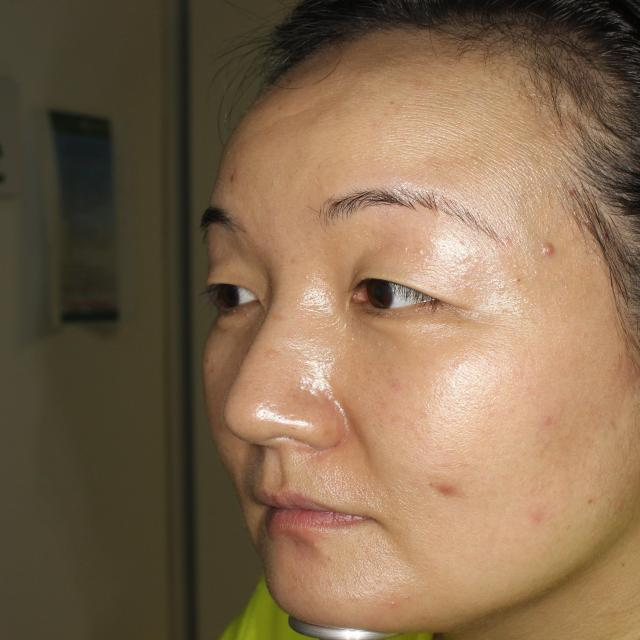comedone: (426, 471, 457, 512), (536, 235, 568, 269), (520, 506, 556, 522)
